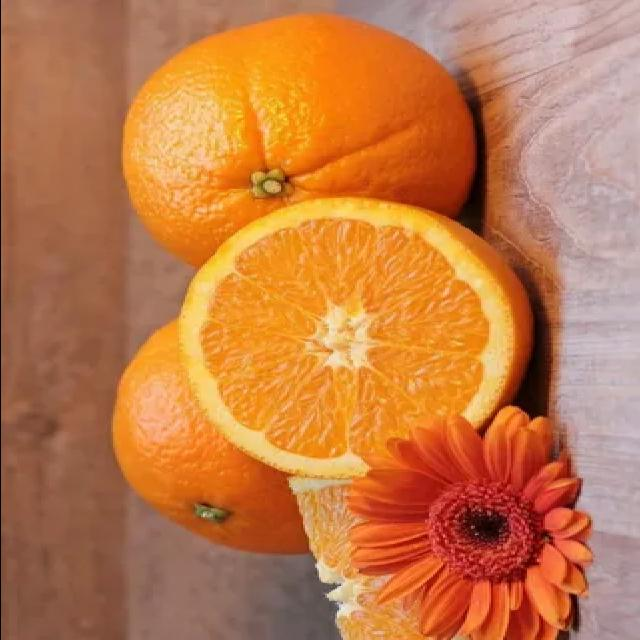orange: (108, 17, 504, 278)
